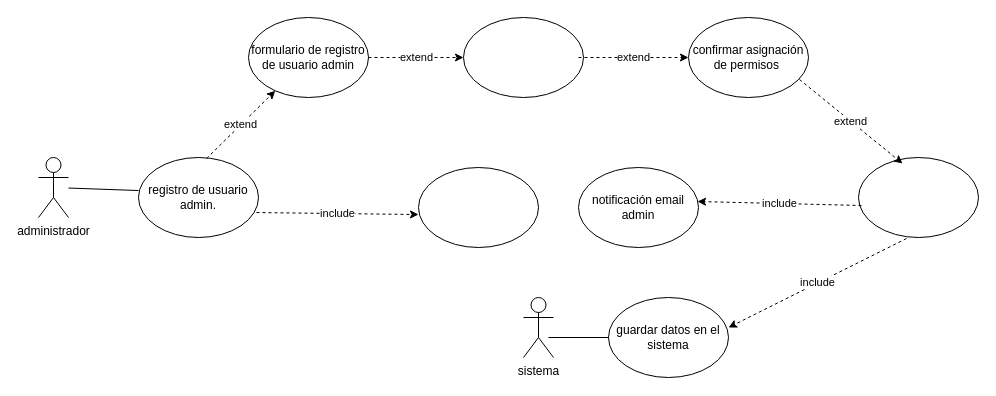
This 996x396 diagram has some shape labels left out. The centre of each missing label's shape, as x and y in pixels:
"asignar permisos" belongs at [523,57].
"mostrar resumen de nuevo usuario" belongs at [918,197].
"validación de los datos de usuario" belongs at [478,207].
